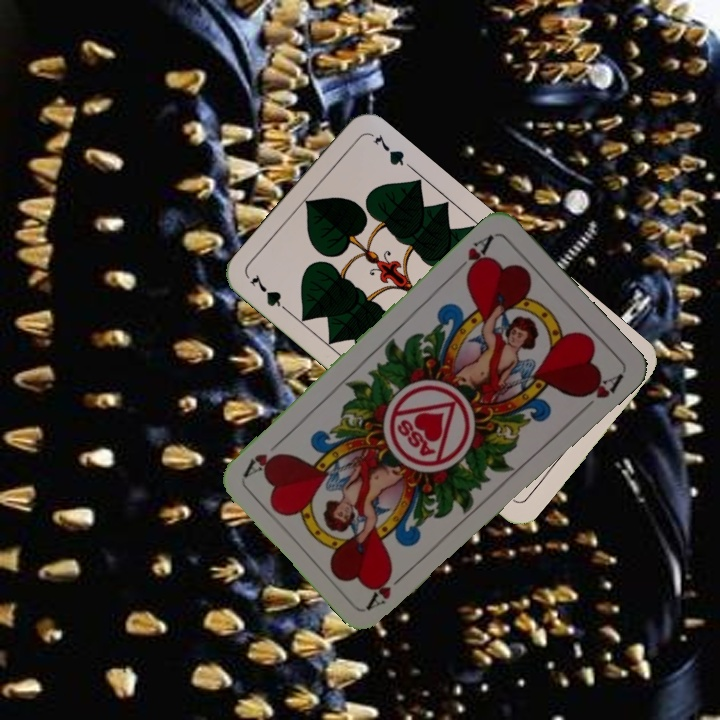G7: (245, 270, 295, 318)
HA: (450, 230, 497, 280), (363, 565, 412, 611)
